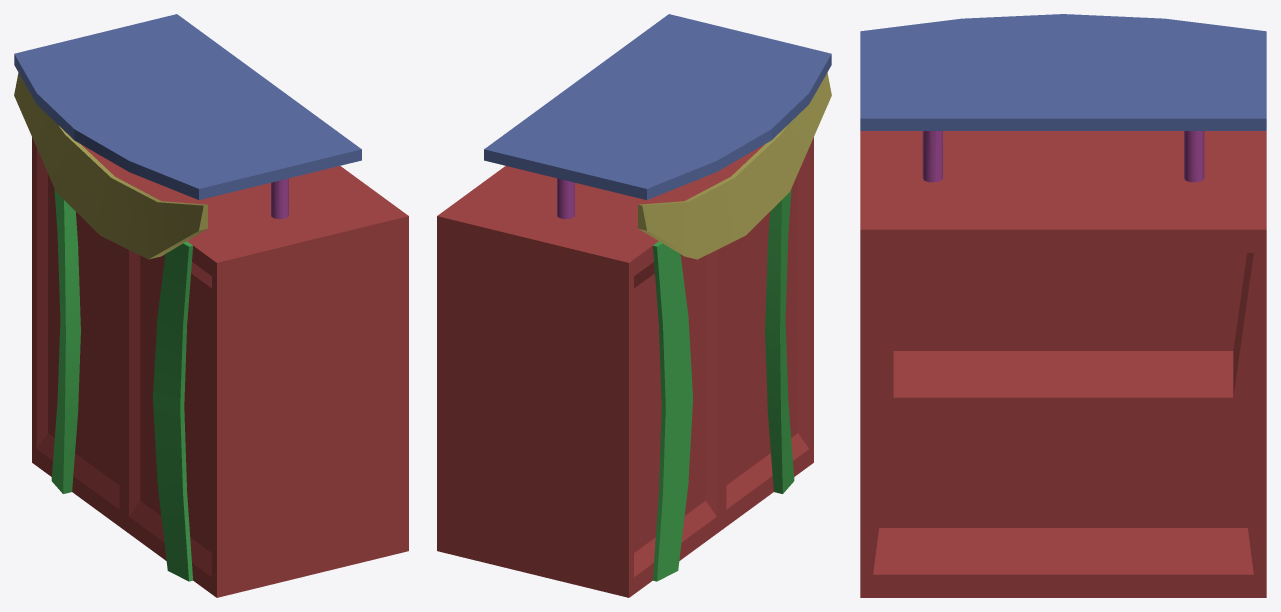
The model's file is Kundentheke_1_gerade_low.fbx.
The picture shows the model from 3 angles, left to right: view 1: azimuth 30°, elevation 25°; view 2: azimuth 150°, elevation 25°; view 3: azimuth 270°, elevation 25°; orthographic projection. The views are drawn at different scales.
Parts seen in each view (by area): view 1: Mesh; view 2: Mesh; view 3: Mesh.
Part boxes in pixels (bbox=[...]): Mesh: bbox=[14, 14, 408, 597]; Mesh: bbox=[437, 14, 831, 597]; Mesh: bbox=[860, 14, 1266, 597].
Size of the model in its own units: 0.756 by 1.23 by 1.
